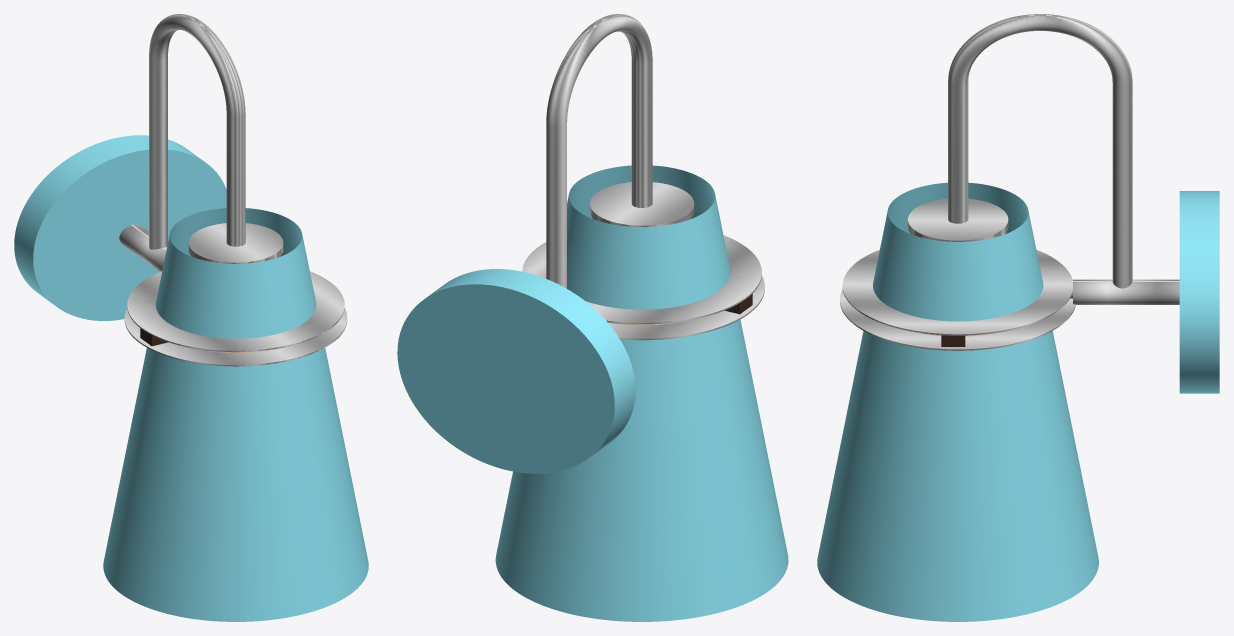
Rendered from 9lamp_w14_h20_d30_741KB.glb.
3 views of the same model, side by side, from view 1: azimuth 30°, elevation 25°; view 2: azimuth 150°, elevation 25°; view 3: azimuth 270°, elevation 25° (orthographic). The views are drawn at different scales.
Parts seen in each view (by area): view 1: root; view 2: root; view 3: root.
Part boxes in pixels (<box>): root: <box>14,14,368,621</box>; root: <box>397,14,788,621</box>; root: <box>817,14,1219,621</box>.
Size of the model in its own units: 0.14 by 0.3 by 0.2.
4 materials, 1 textured.
